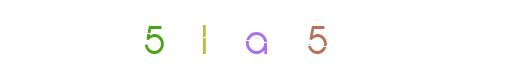5: (114, 0, 194, 80), (226, 0, 306, 80)
A: (217, 0, 297, 80)
L: (215, 0, 295, 80)
